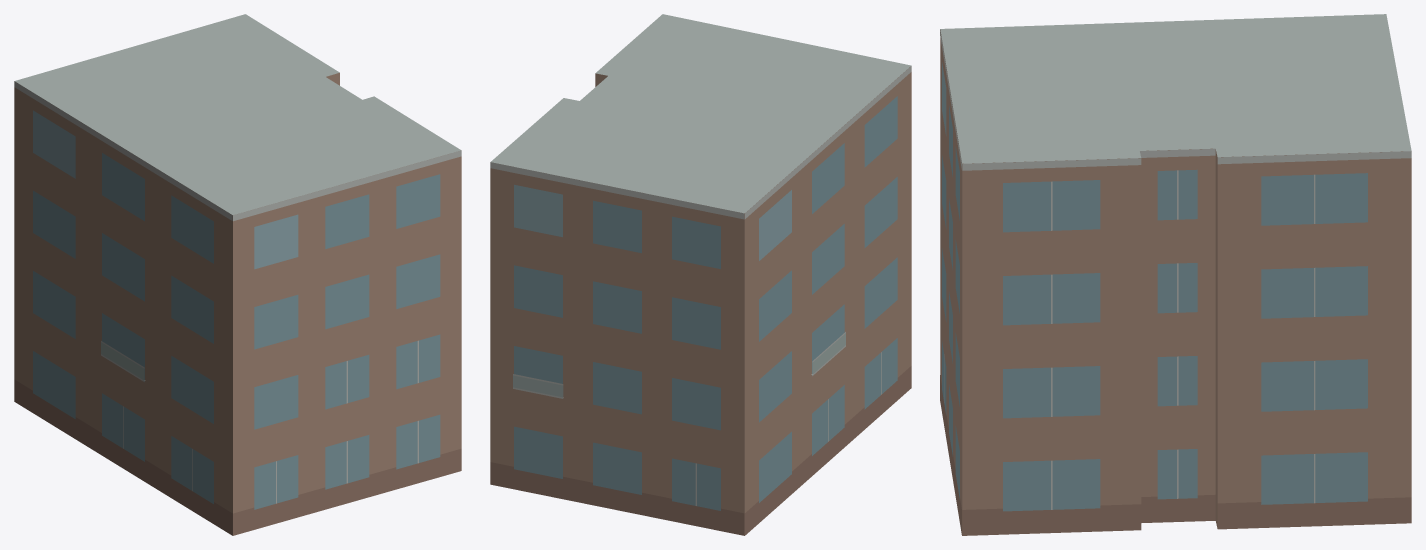
Rendered from survey-upis-32911947.glb.
3 renders of one model, left to right at view 1: azimuth 30°, elevation 25°; view 2: azimuth 150°, elevation 25°; view 3: azimuth 270°, elevation 25°, orthographic. The views are drawn at different scales.
Visible parts, largest first — view 1: survey-upis-32911947.tmp; view 2: survey-upis-32911947.tmp; view 3: survey-upis-32911947.tmp.
Boxes of the visible parts, bbox=[...] form: survey-upis-32911947.tmp: bbox=[14, 14, 461, 535]; survey-upis-32911947.tmp: bbox=[490, 14, 911, 535]; survey-upis-32911947.tmp: bbox=[940, 14, 1411, 535].
Size of the model in its own units: 11.14 by 12.9 by 14.82.
